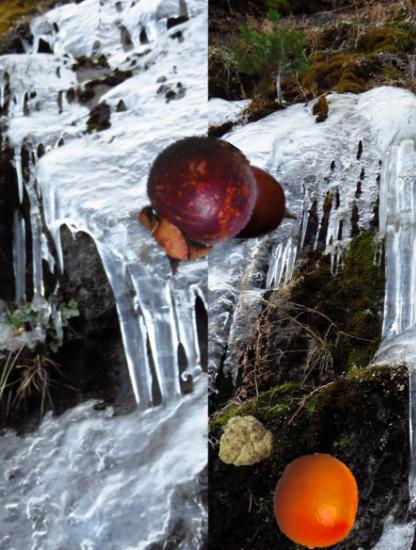Cauliflower: (216, 411, 276, 471)
Grapefruit: (267, 453, 364, 550)
Mangostan: (122, 133, 264, 275)
Tamarillo: (193, 149, 298, 254)
